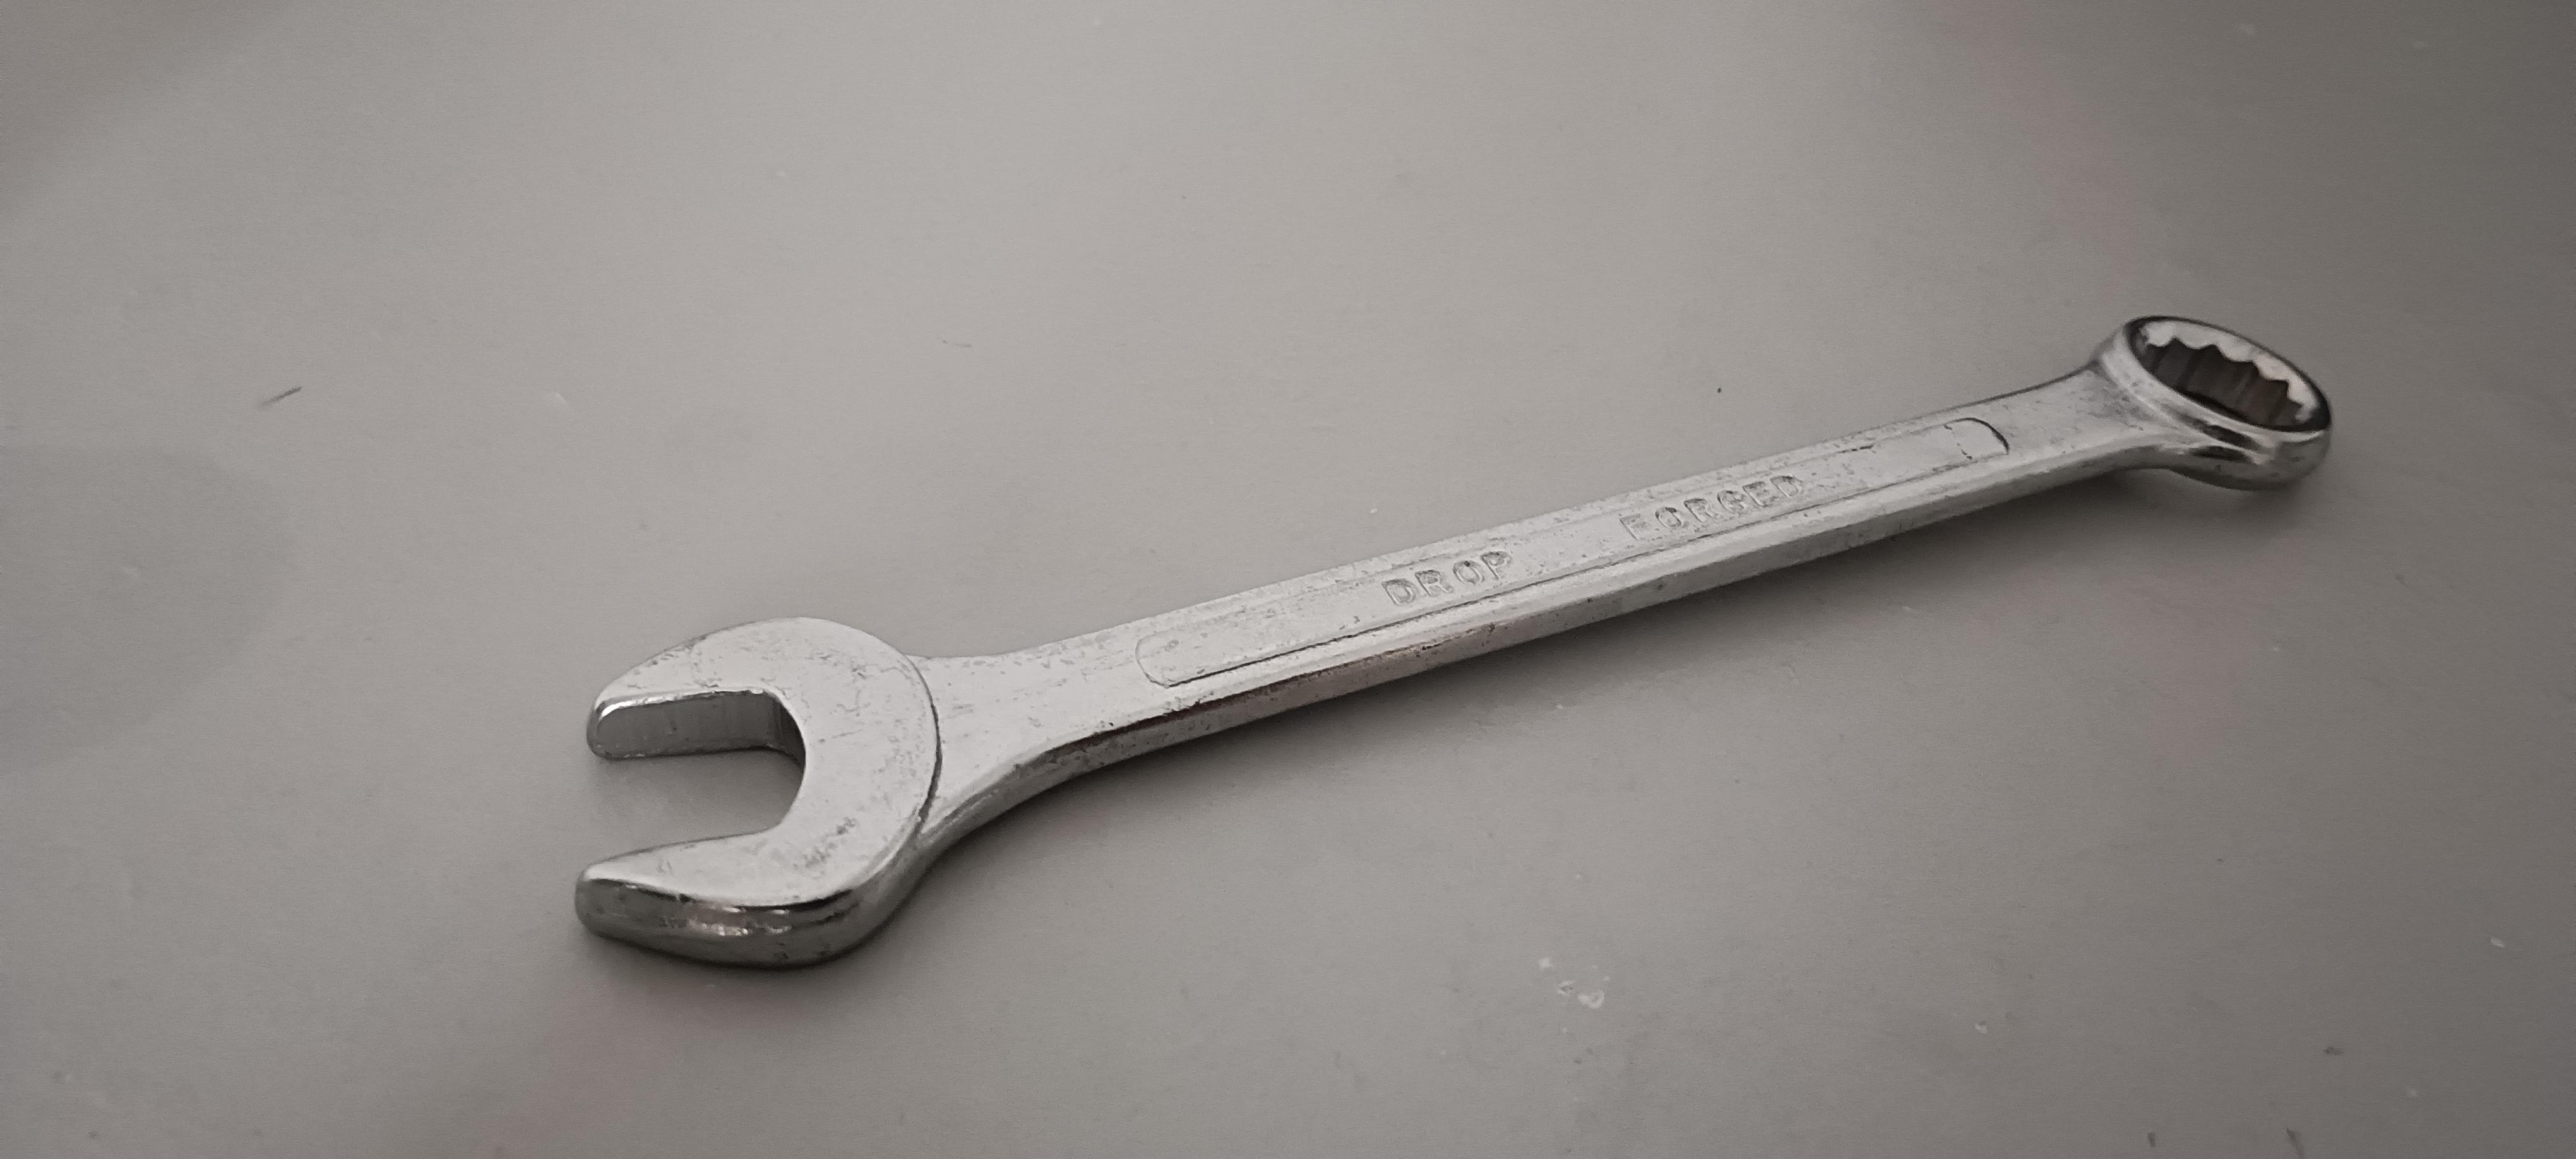Spanners: (552, 253, 2380, 1016)
